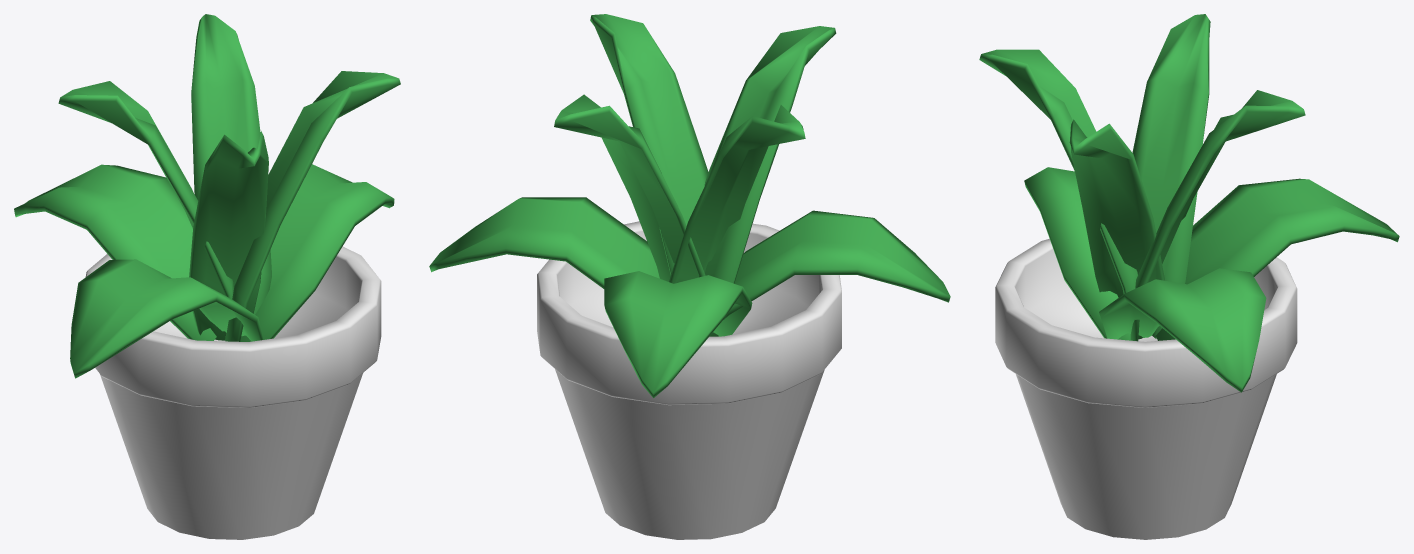
Rendered from Game_project1_assets_PlantPot.fbx.
3 renders of one model, left to right at view 1: azimuth 30°, elevation 25°; view 2: azimuth 150°, elevation 25°; view 3: azimuth 270°, elevation 25°, orthographic. The views are drawn at different scales.
Visible parts, largest first — view 1: leaves, Plant pot; view 2: leaves, Plant pot; view 3: leaves, Plant pot.
Boxes of the visible parts, left/top/right/bottom form: leaves: left=14, top=14, right=400, bottom=378; Plant pot: left=85, top=246, right=381, bottom=539; leaves: left=429, top=14, right=950, bottom=397; Plant pot: left=537, top=221, right=841, bottom=539; leaves: left=979, top=14, right=1399, bottom=392; Plant pot: left=995, top=239, right=1297, bottom=539.
Bounding box in the file's own units: 77.11 × 75.66 × 67.79.
